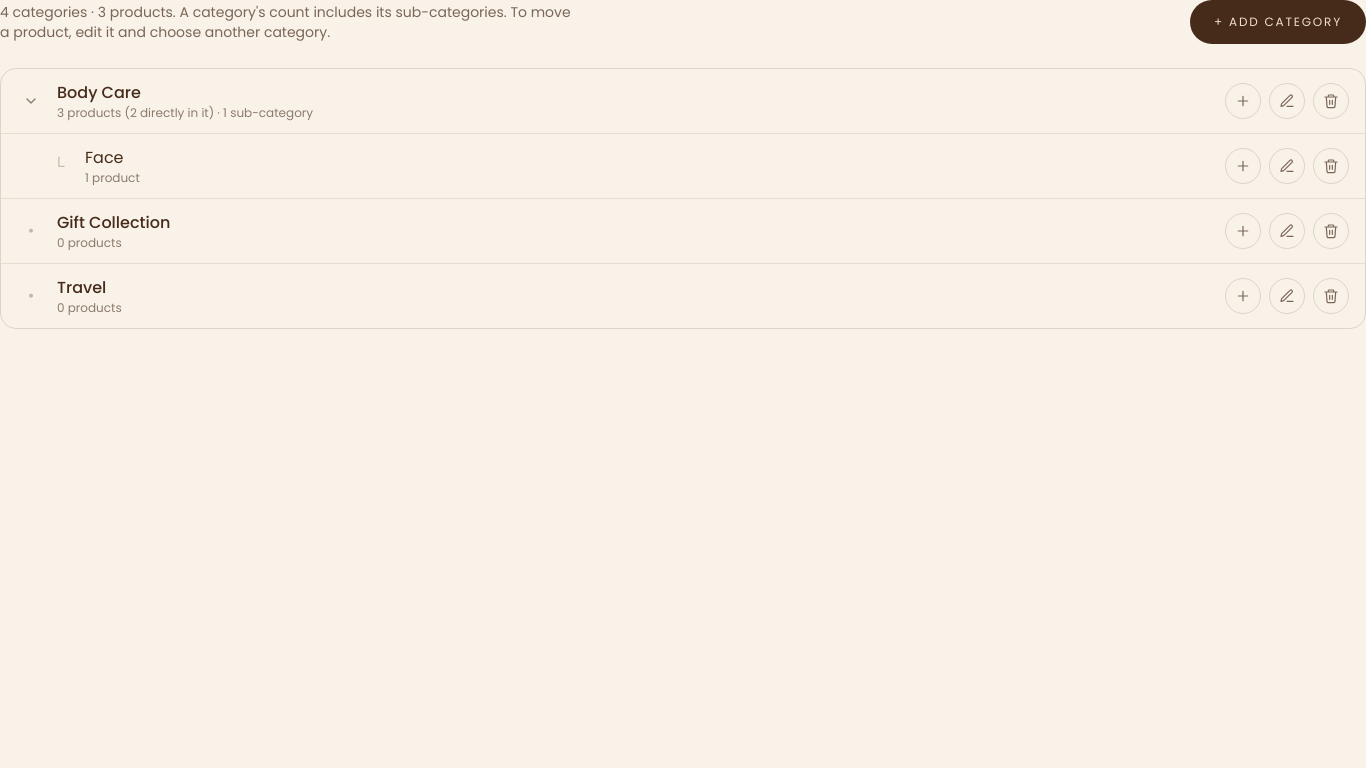
Test: CategoryManager: adding and editing › adding a main category saves it and shows a toast
Click the button "+ Add category": (1278, 22) [1190, 0, 1365, 44]
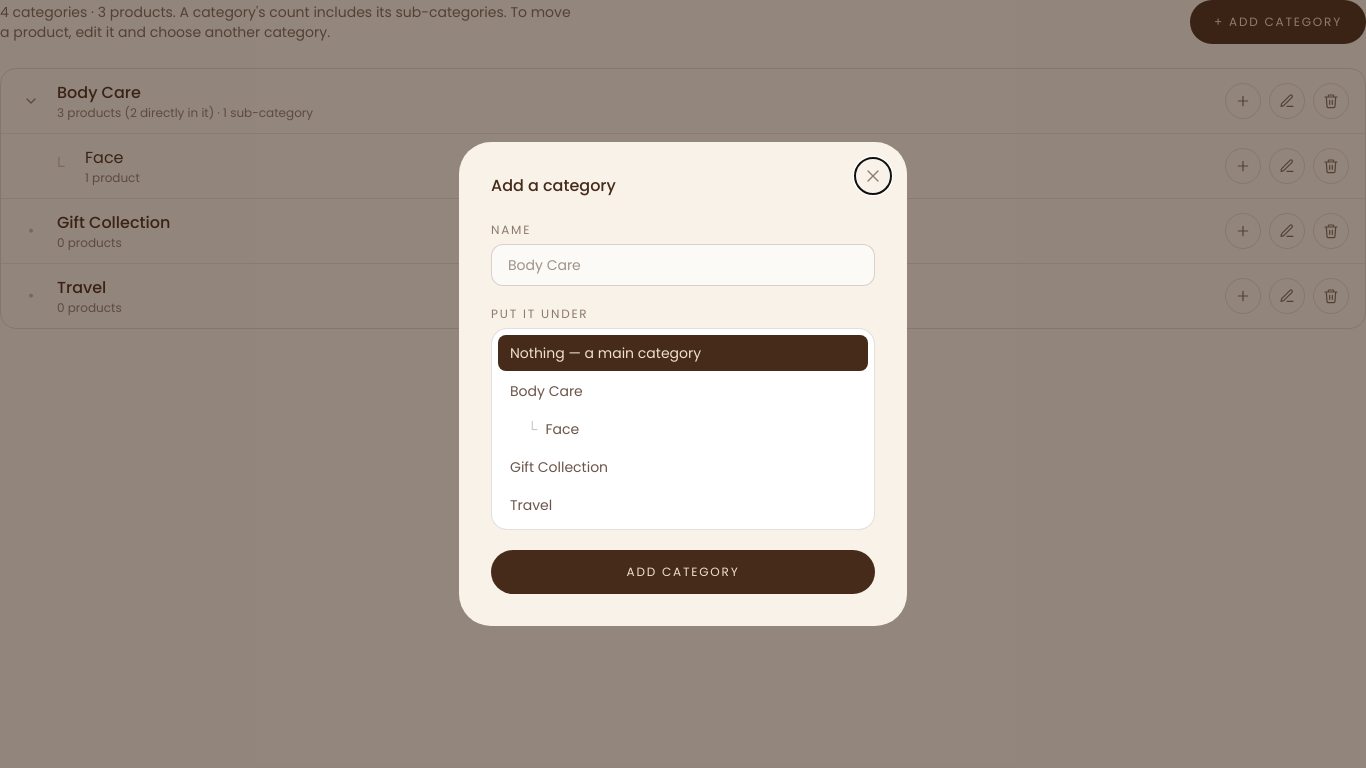
Expected: the radio button labelled "Nothing — a main category" is checked, [498, 335, 868, 371]
In the field labelled "Name": (683, 265) [491, 244, 875, 286], type "Hair Care"
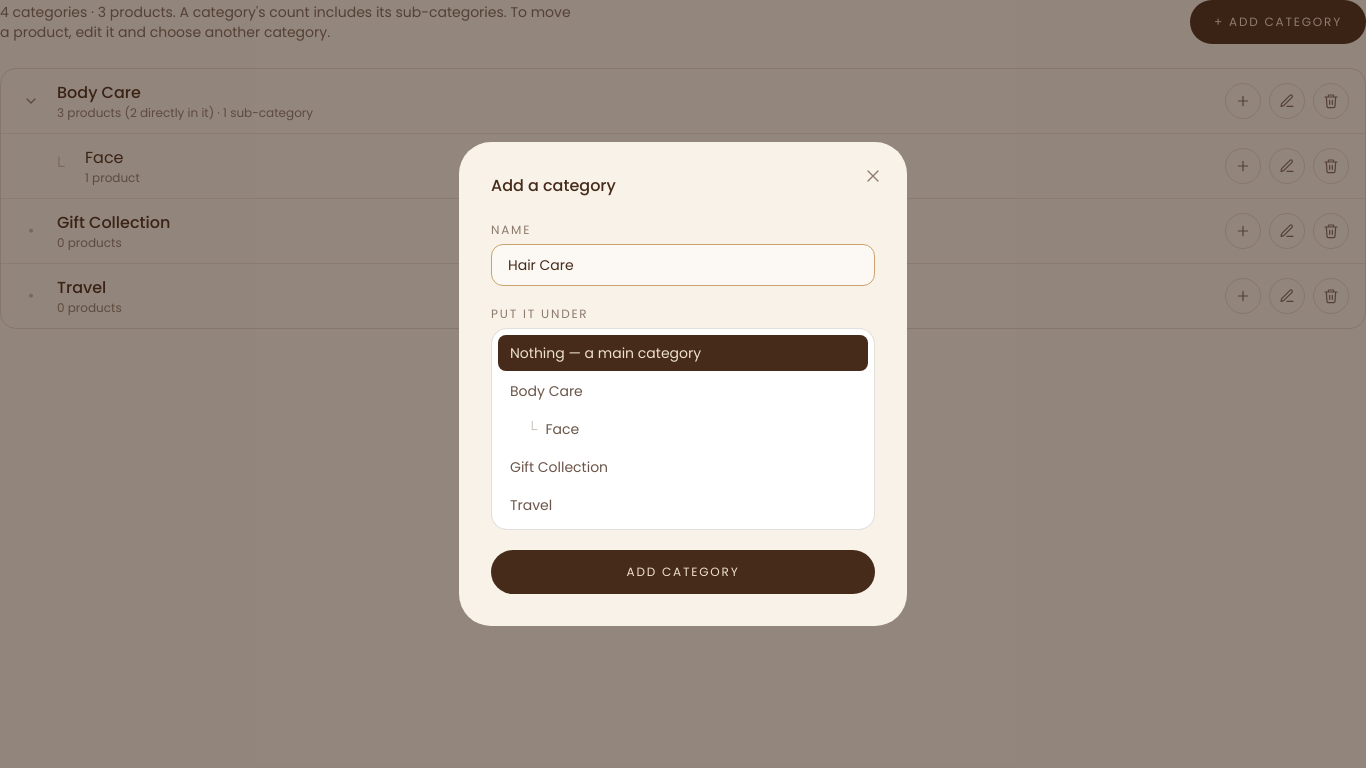
Click the button "Add category": (683, 572) [491, 550, 875, 594]
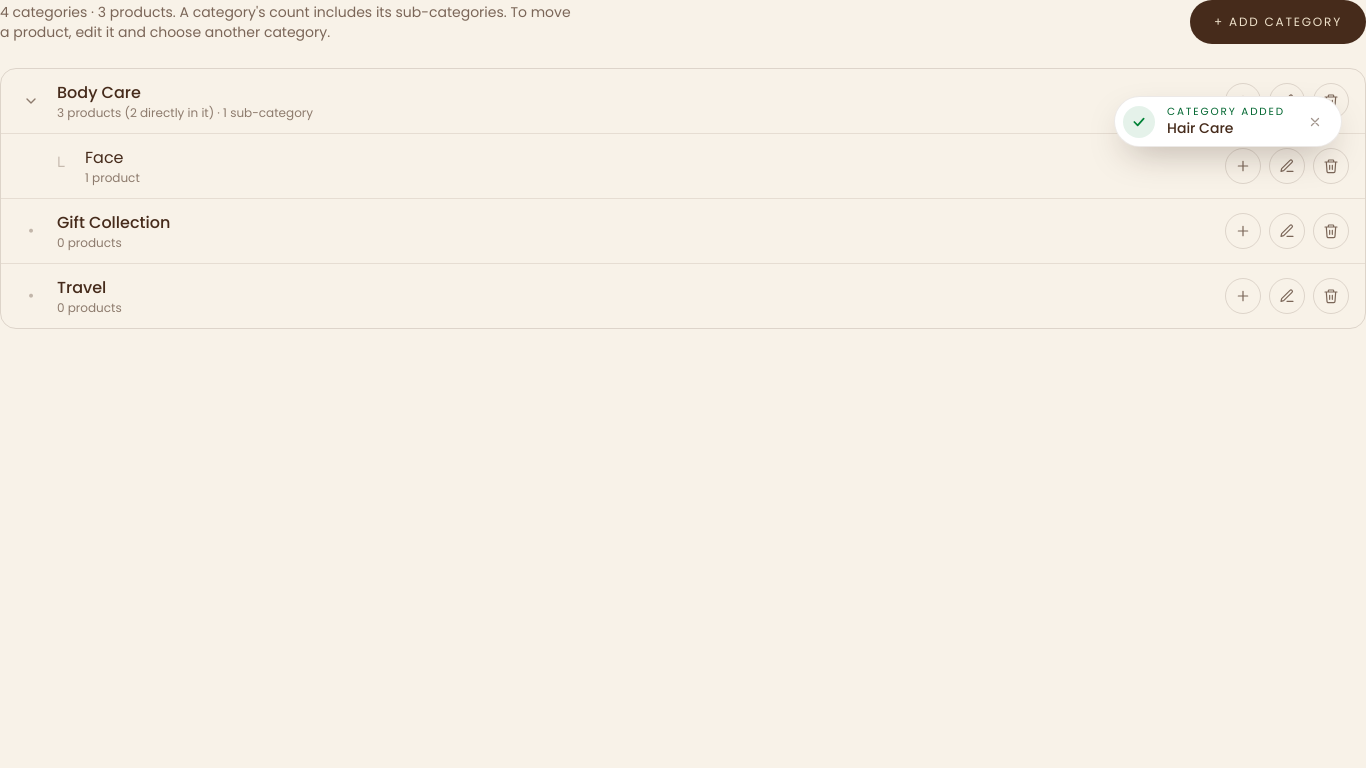
Expected: the dialog is gone
Expected: the message shows "Category added", [1167, 104, 1285, 119]
Expected: the message shows "Hair Care", [1167, 118, 1233, 138]
